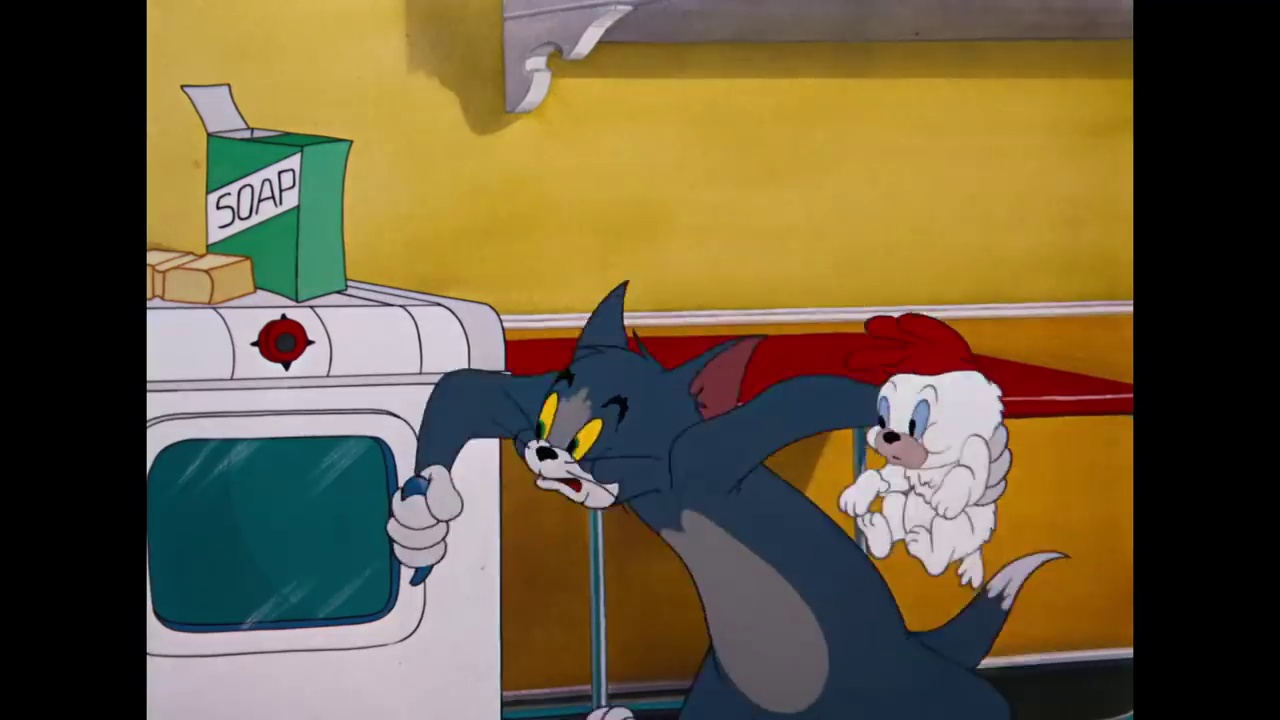tom: (513, 280, 761, 510)
